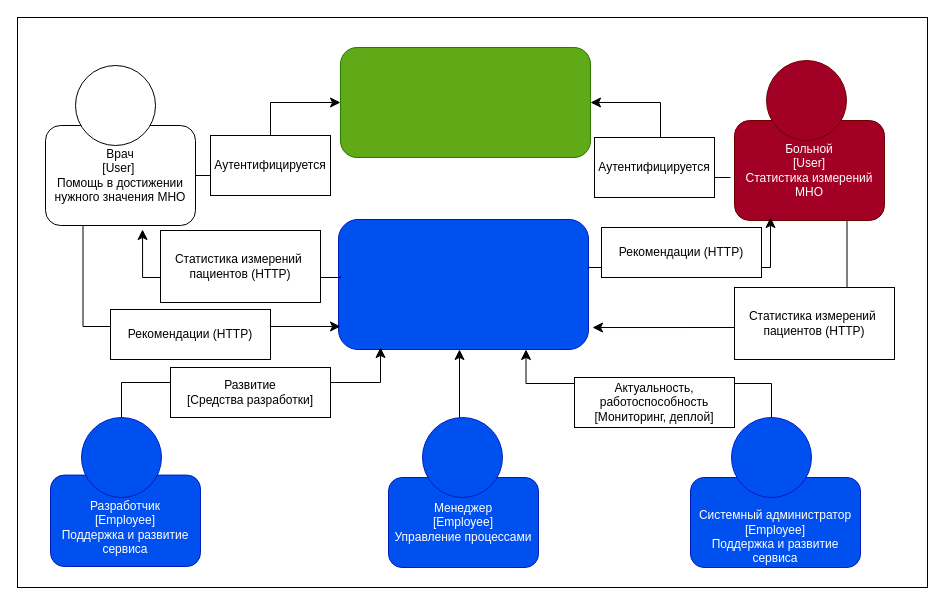
Some shapes in this 945 by 605 pixel diagram are drawn without their labels. Each missing label, with the box of its shape:
Сервис аутентификации [Software system] Аутентификация, Форма входа: (340, 46, 590, 158)
Сервис контроля МНО [Software system] Целевая система: (338, 218, 588, 350)
